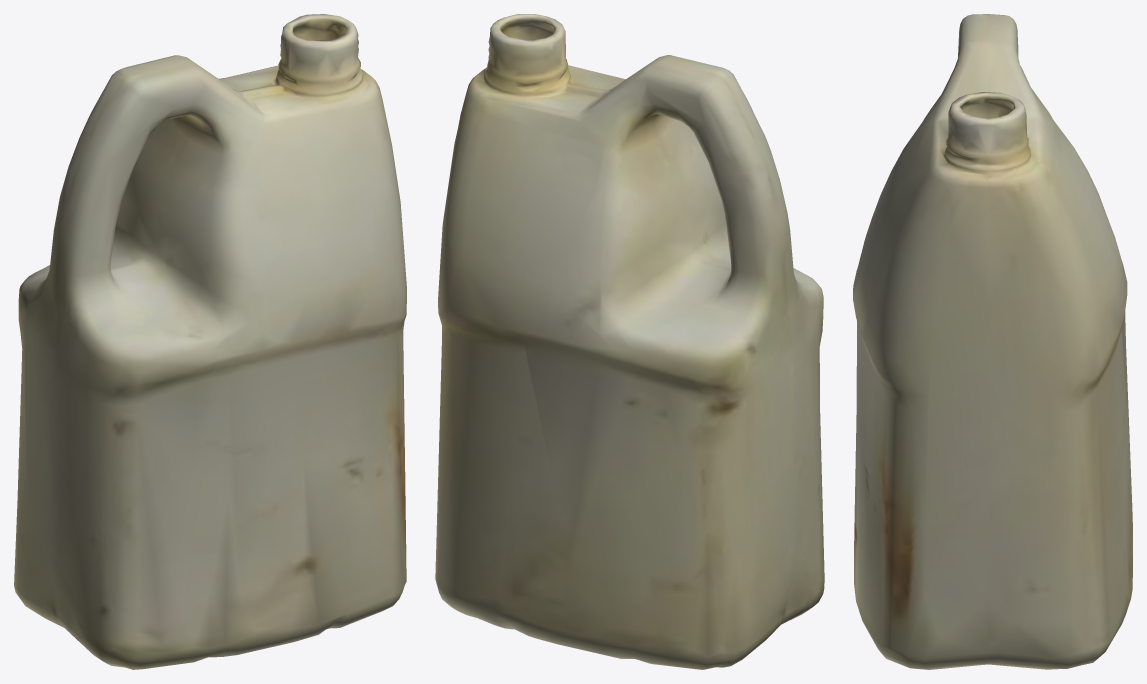
Rendered from plastic_bottle_gallon.glb.
The picture shows the model from 3 angles, left to right: view 1: azimuth 30°, elevation 25°; view 2: azimuth 150°, elevation 25°; view 3: azimuth 270°, elevation 25°; orthographic projection.
Visible parts, largest first — view 1: plastic_bottle_gallon; view 2: plastic_bottle_gallon; view 3: plastic_bottle_gallon.
Part boxes in pixels (bbox=[...]): plastic_bottle_gallon: bbox=[14, 14, 406, 669]; plastic_bottle_gallon: bbox=[435, 14, 824, 669]; plastic_bottle_gallon: bbox=[853, 14, 1132, 669].
Bounding box in the file's own units: 0.1662 × 0.2745 × 0.1259.
Materials: 1 (1 with a texture image).
